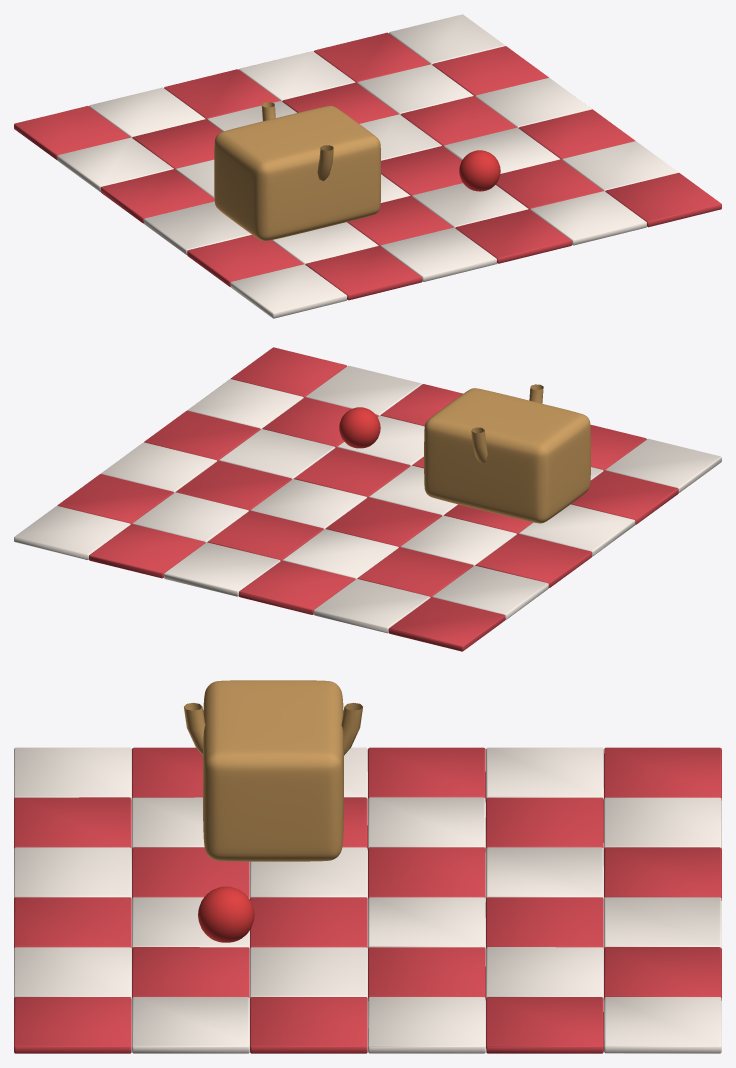
Rendered from plush_picnic.glb.
3 renders of one model, top to bottom at view 1: azimuth 30°, elevation 25°; view 2: azimuth 150°, elevation 25°; view 3: azimuth 270°, elevation 25°, orthographic. The views are drawn at different scales.
Parts seen in each view (by area): view 1: sq01, sq00, basket, apple; view 2: sq00, sq01, basket, apple; view 3: sq01, sq00, basket, apple.
Boxes of the visible parts, box(x1,y1,x2,y2) form: sq01: box(14, 32, 721, 300); sq00: box(57, 14, 678, 318); basket: box(214, 102, 380, 241); apple: box(459, 150, 500, 191); sq00: box(14, 365, 721, 633); sq01: box(57, 347, 678, 651); basket: box(424, 384, 590, 523); apple: box(339, 407, 380, 448); sq01: box(14, 747, 721, 1053); sq00: box(14, 747, 721, 1053); basket: box(184, 680, 362, 861); apple: box(198, 886, 254, 942).
Bounding box in the file's own units: 1.5 × 0.2996 × 1.5.
